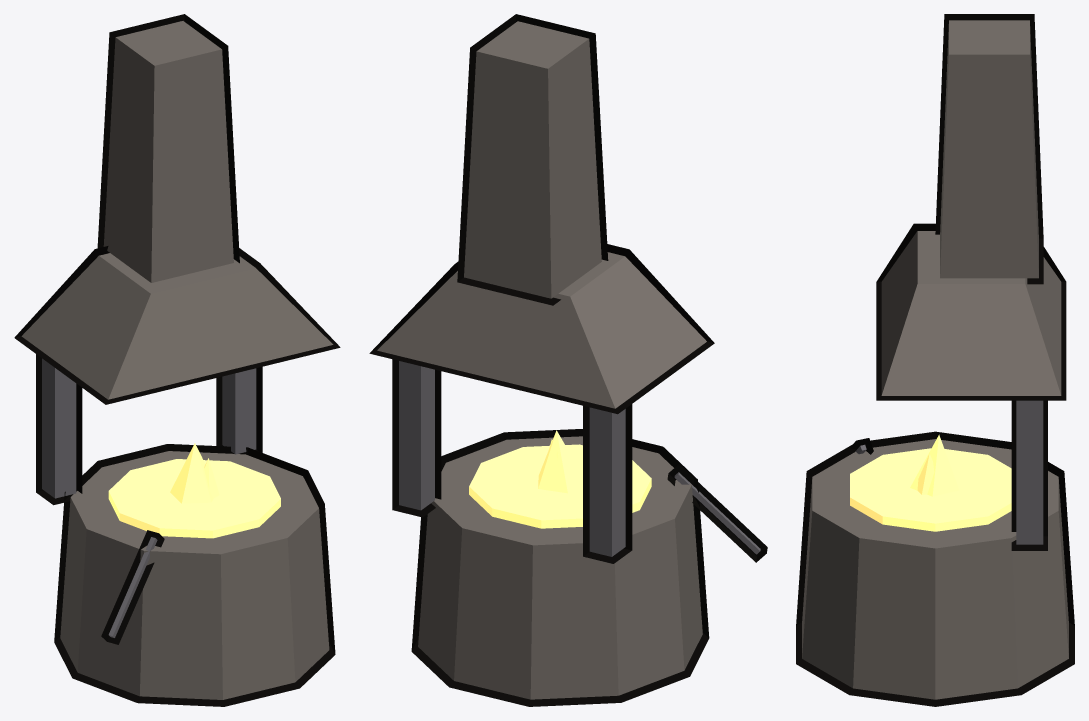
Rendered from forge.glb.
3 renders of one model, left to right at view 1: azimuth 30°, elevation 25°; view 2: azimuth 150°, elevation 25°; view 3: azimuth 270°, elevation 25°, orthographic. The views are drawn at different scales.
Visible parts, largest first — view 1: Prop_hearth_forge; view 2: Prop_hearth_forge; view 3: Prop_hearth_forge.
Boxes of the visible parts, x1=… form: Prop_hearth_forge: x1=14, y1=14, x2=340, y2=706; Prop_hearth_forge: x1=369, y1=14, x2=767, y2=706; Prop_hearth_forge: x1=796, y1=14, x2=1074, y2=706.
Bounding box in the file's own units: 1.78 × 3.75 × 1.55.
